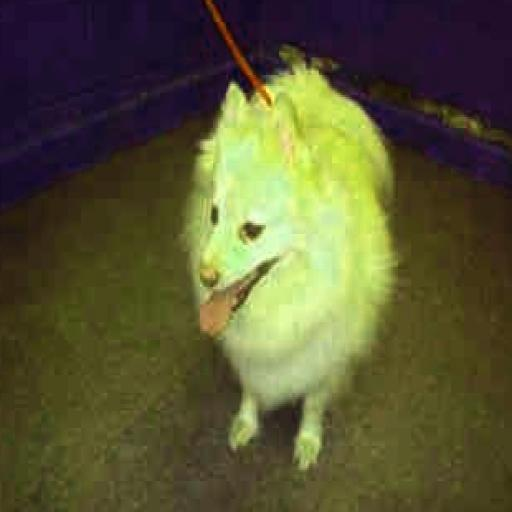dog_face: (195, 98, 312, 306)
